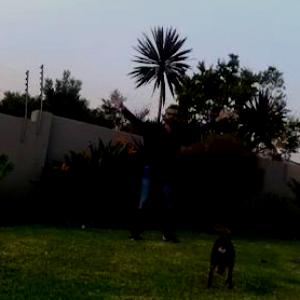takeoff: (122, 100, 240, 236)
